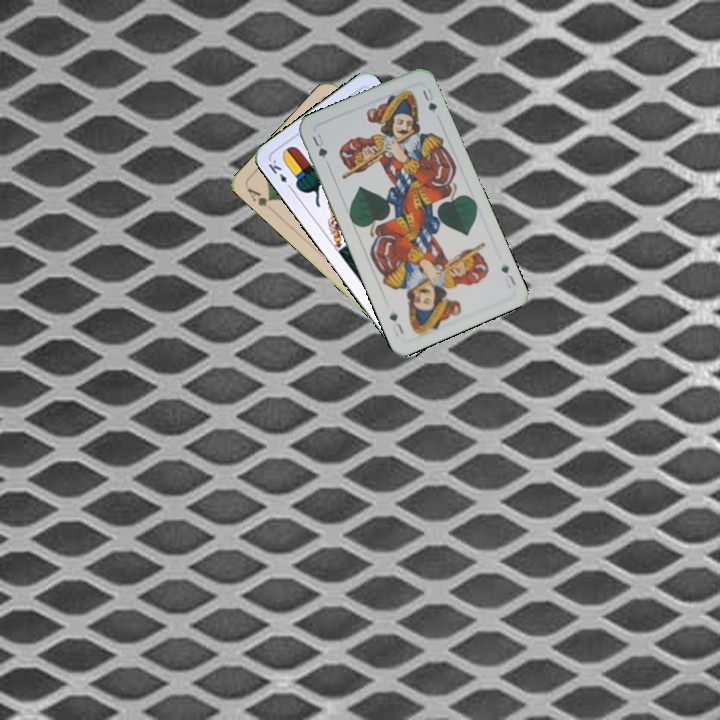EK: (264, 156, 295, 193)
GA: (243, 183, 275, 209)
GU: (308, 129, 330, 162), (497, 261, 518, 288)
